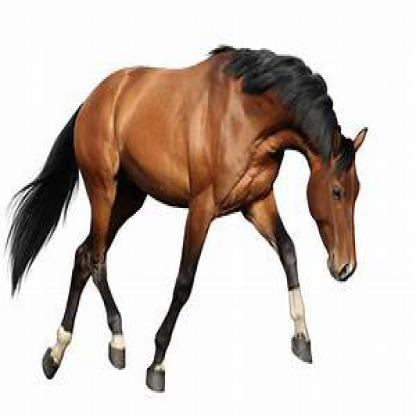horse: (9, 40, 368, 397)
